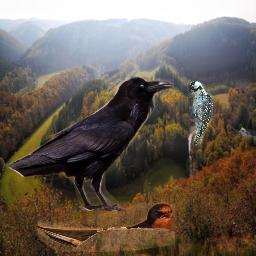Crow: (4, 72, 174, 211)
Swallow: (37, 202, 175, 252)
Woodpecker: (189, 81, 213, 146)
